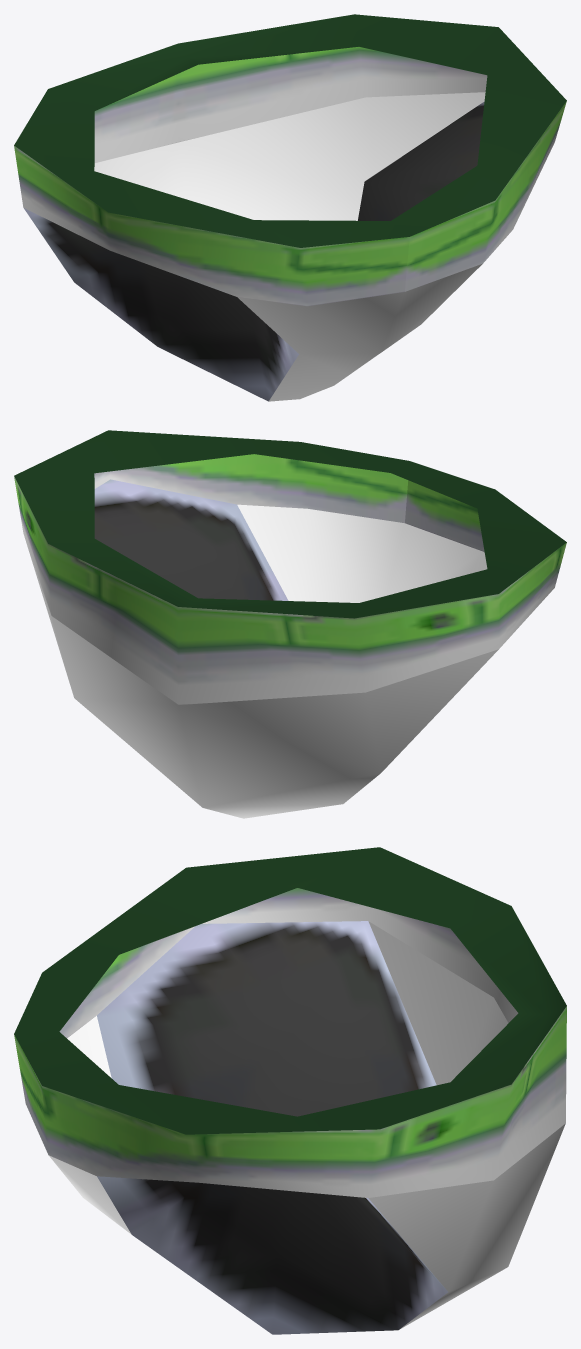
The model's file is buzzlightyHip.obj.
3 renders of one model, top to bottom at view 1: azimuth 30°, elevation 25°; view 2: azimuth 150°, elevation 25°; view 3: azimuth 270°, elevation 25°, orthographic. The views are drawn at different scales.
Parts seen in each view (by area): view 1: buzzlightyHip_buzzlighty.011; view 2: buzzlightyHip_buzzlighty.011; view 3: buzzlightyHip_buzzlighty.011.
Boxes of the visible parts, x1=… form: buzzlightyHip_buzzlighty.011: x1=14, y1=14, x2=566, y2=401; buzzlightyHip_buzzlighty.011: x1=14, y1=430, x2=566, y2=818; buzzlightyHip_buzzlighty.011: x1=14, y1=847, x2=566, y2=1334.
Bounding box in the file's own units: 0.1966 × 0.1089 × 0.1628.
1 material, 1 textured.
